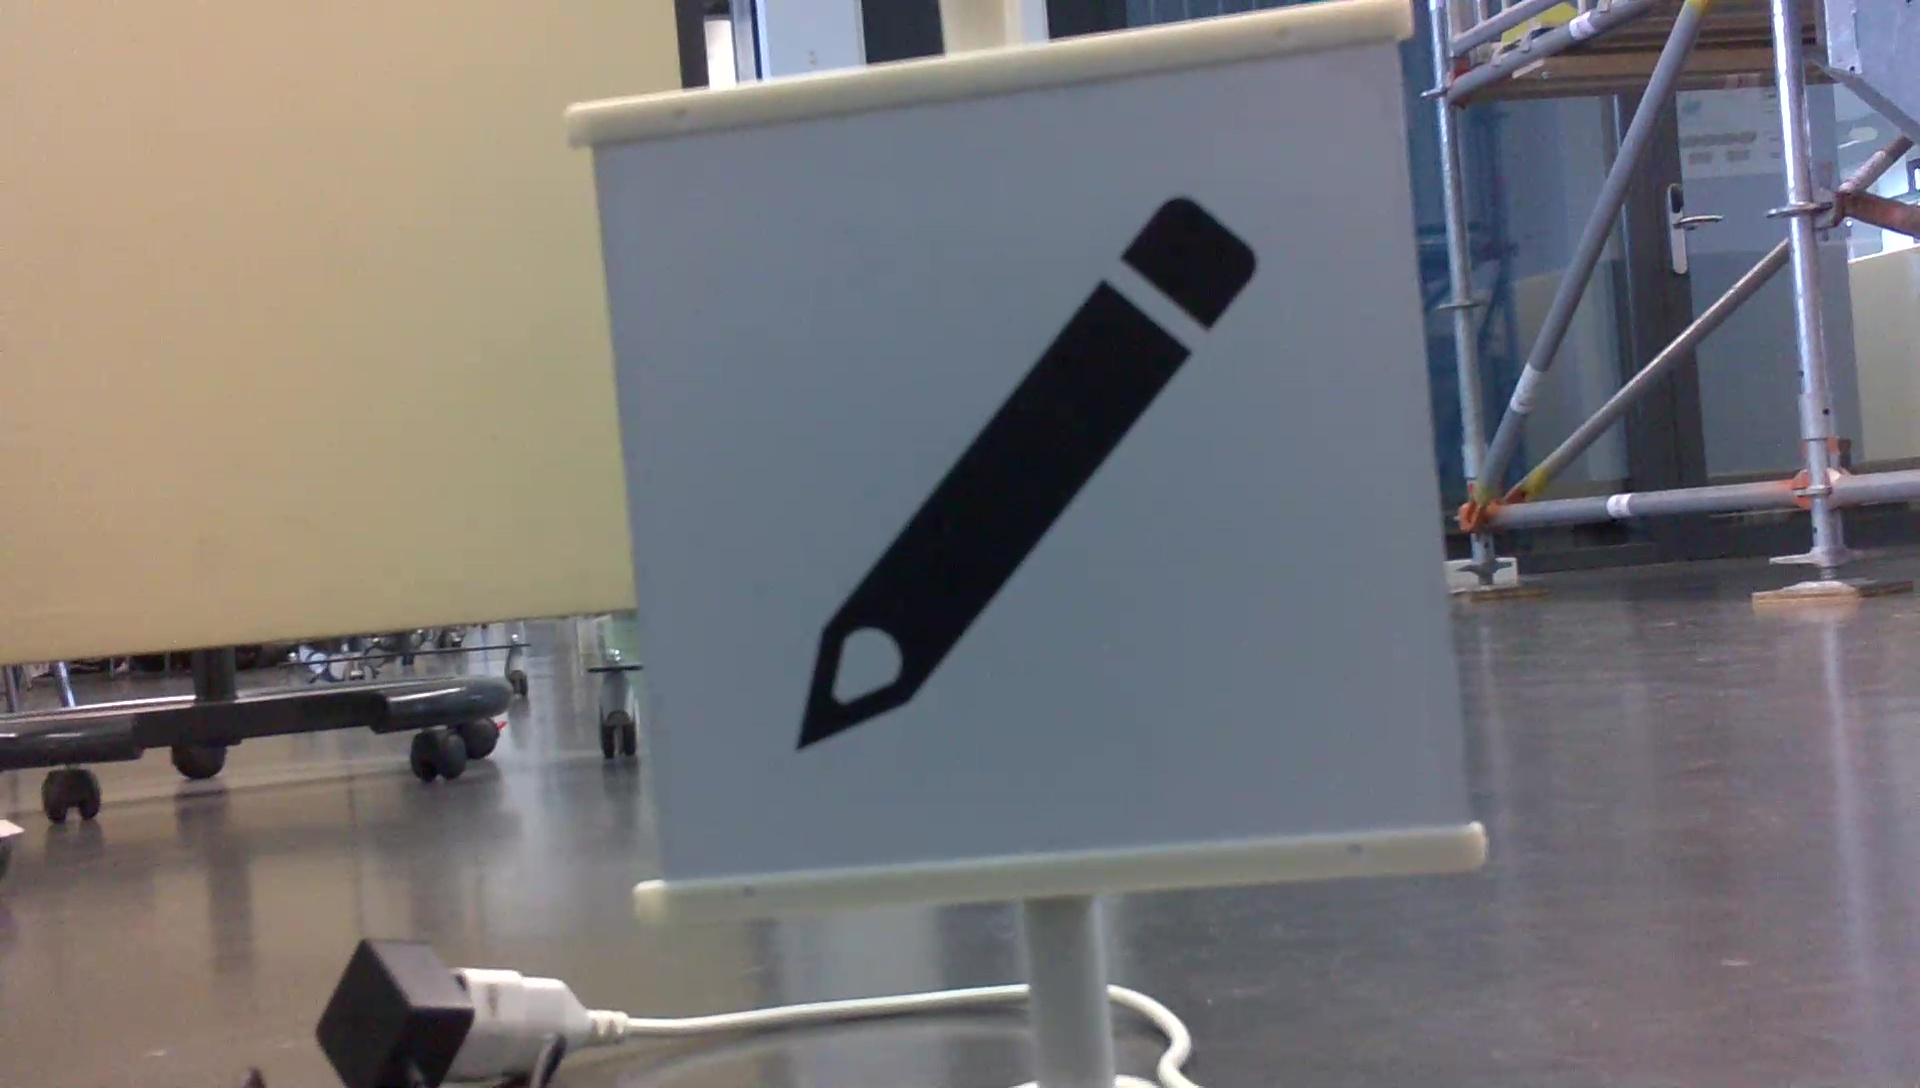pencil: (771, 167, 1280, 768)
